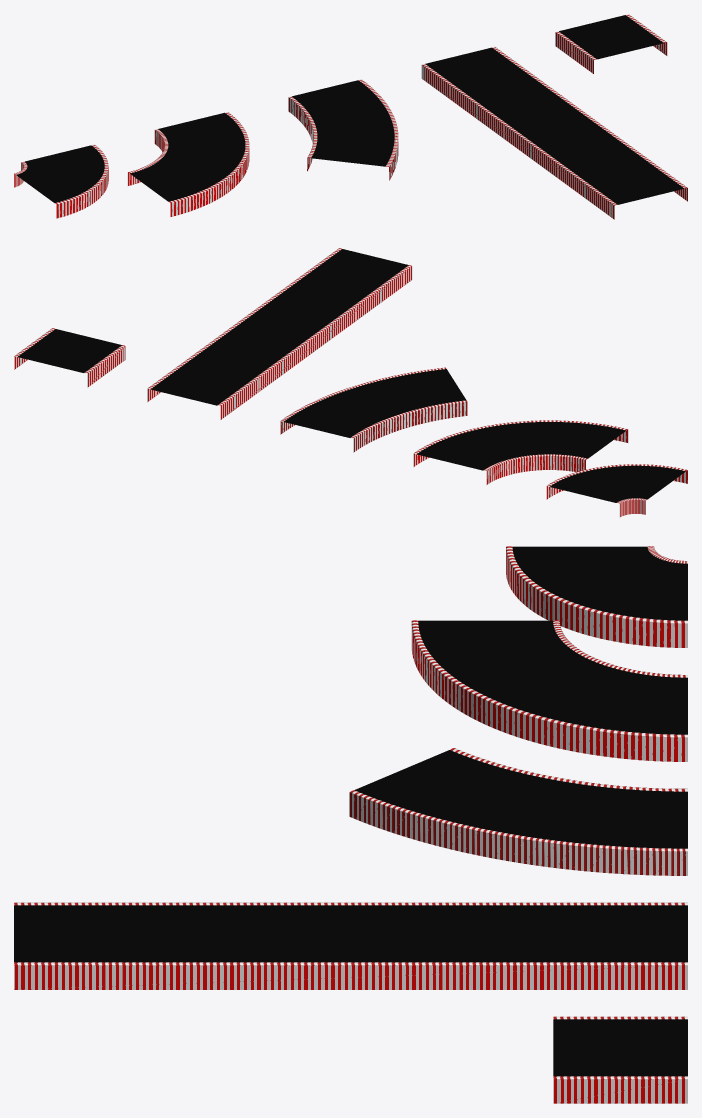
Rendered from Racing-Track-Modular.fbx.
3 renders of one model, top to bottom at view 1: azimuth 30°, elevation 25°; view 2: azimuth 150°, elevation 25°; view 3: azimuth 270°, elevation 25°, orthographic. The views are drawn at different scales.
Parts seen in each view (by area): view 1: Straight-big, Curve-big, Curve-45, Straight-big_border, Curve-small, Straight-small, Curve-big_border, Curve-45_border, Curve-small_border, Straight-small_border; view 2: Straight-big, Curve-big, Curve-45, Straight-big_border, Curve-small, Straight-small, Curve-45_border, Curve-big_border, Curve-small_border, Straight-small_border; view 3: Straight-big, Straight-big_border, Curve-big, Curve-45, Curve-45_border, Curve-small, Curve-big_border, Straight-small, Curve-small_border, Straight-small_border.
Part boxes in pixels (<box>): Straight-big: <box>425,47,683,204</box>; Curve-big: <box>130,112,245,201</box>; Curve-45: <box>292,80,394,166</box>; Straight-big_border: <box>421,46,687,219</box>; Curve-small: <box>16,145,104,202</box>; Straight-small: <box>559,15,663,59</box>; Curve-big_border: <box>127,112,249,216</box>; Curve-45_border: <box>288,79,398,180</box>; Curve-small_border: <box>14,144,108,218</box>; Straight-small_border: <box>555,14,667,73</box>; Straight-big: <box>150,249,408,405</box>; Curve-big: <box>417,422,625,470</box>; Curve-45: <box>284,369,466,437</box>; Straight-big_border: <box>147,248,412,419</box>; Curve-small: <box>550,465,685,502</box>; Straight-small: <box>18,329,121,372</box>; Curve-45_border: <box>280,367,467,452</box>; Curve-big_border: <box>413,420,628,485</box>; Curve-small_border: <box>546,464,687,517</box>; Straight-small_border: <box>14,328,125,387</box>; Straight-big: <box>14,905,687,962</box>; Straight-big_border: <box>14,902,687,989</box>; Curve-big: <box>418,620,687,734</box>; Curve-45: <box>354,750,687,848</box>; Curve-45_border: <box>349,748,687,875</box>; Curve-small: <box>512,546,687,620</box>; Curve-big_border: <box>411,620,687,761</box>; Straight-small: <box>553,1019,687,1076</box>; Curve-small_border: <box>506,546,687,647</box>; Straight-small_border: <box>553,1016,687,1103</box>.
Bounding box in the file's own units: 9350 × 204 × 5000.
